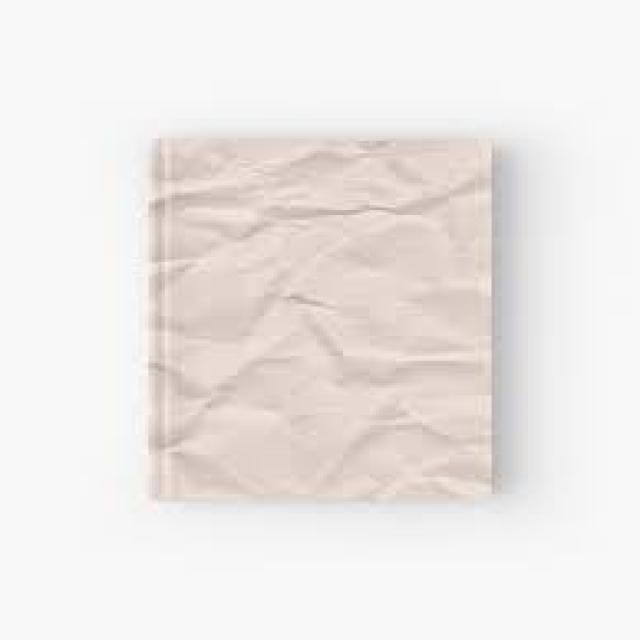paper: (145, 136, 495, 502)
